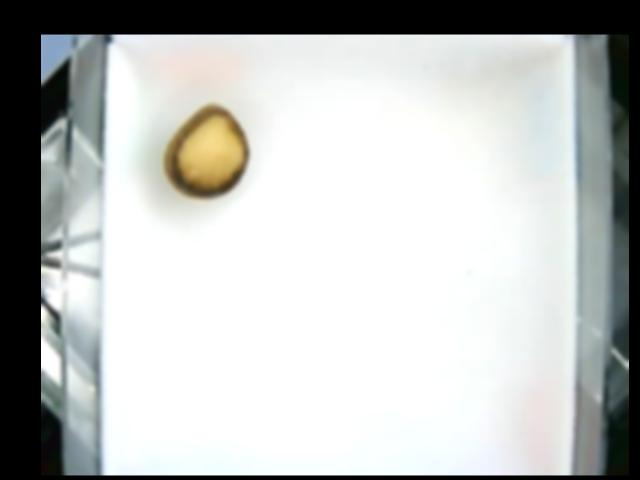Potato: (162, 99, 251, 203)
